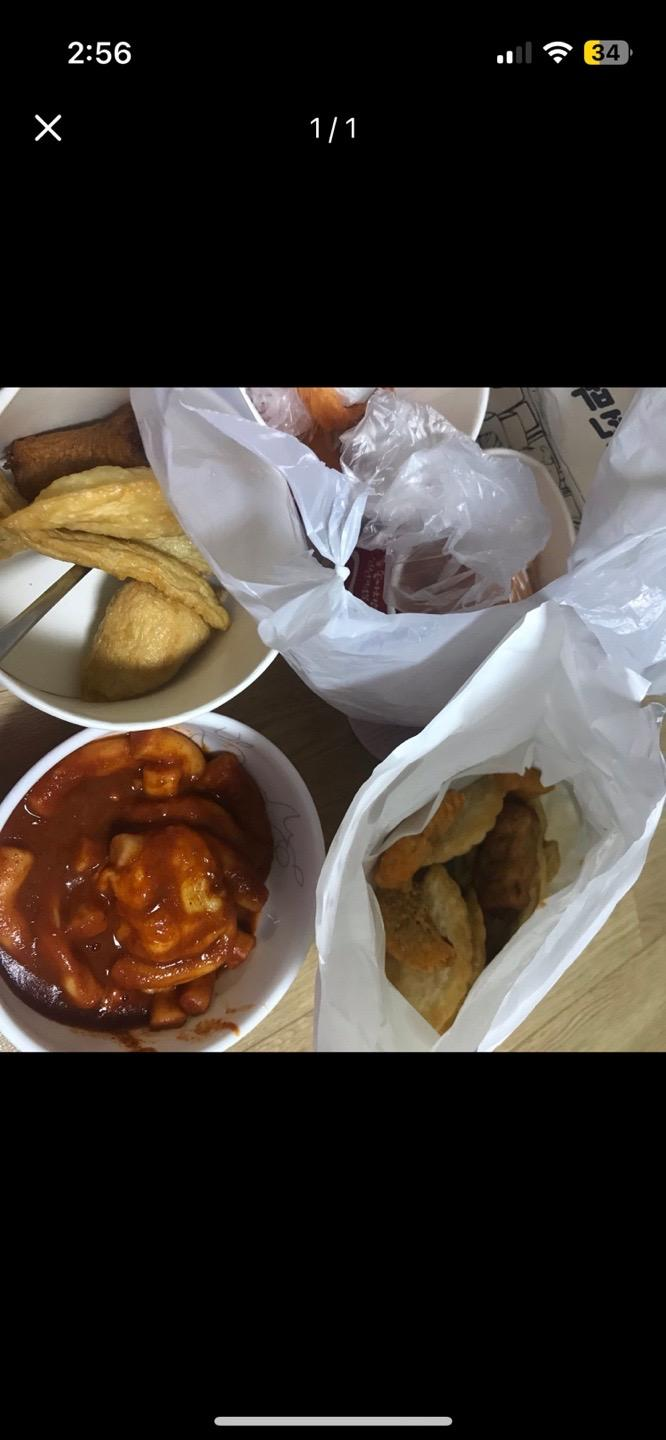Lunch Box: (131, 386, 665, 727), (316, 603, 665, 1051), (0, 715, 324, 1052), (0, 387, 274, 729)
